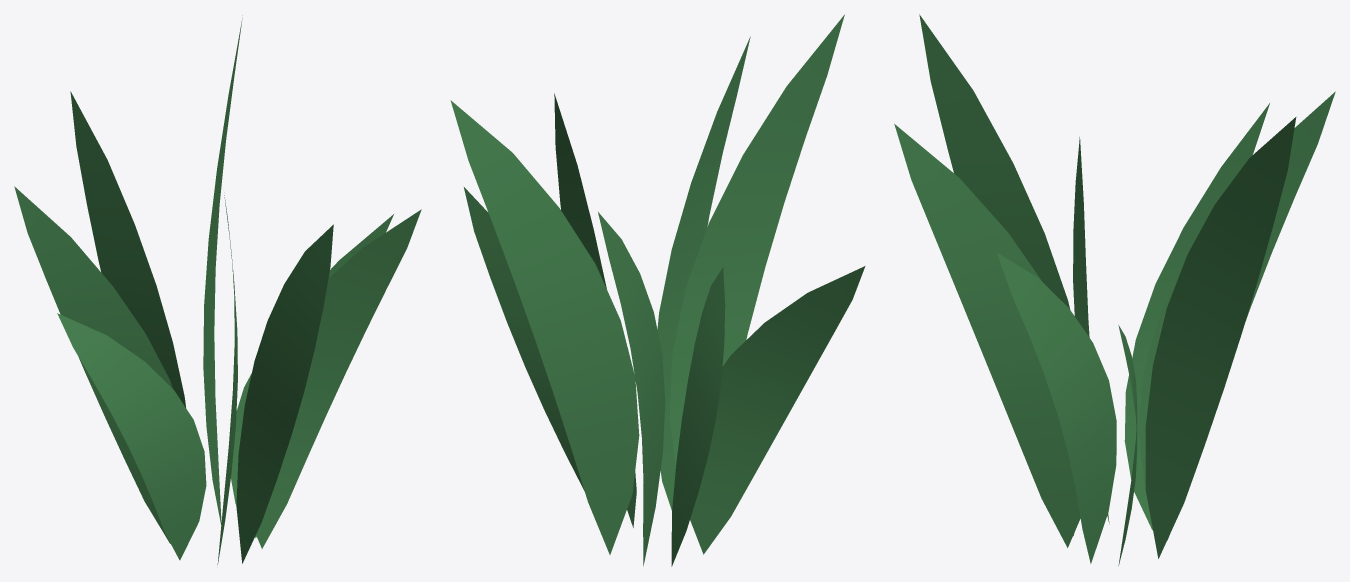
File: seaweed.glb
3 renders of one model, left to right at view 1: azimuth 30°, elevation 25°; view 2: azimuth 150°, elevation 25°; view 3: azimuth 270°, elevation 25°, orthographic. The views are drawn at different scales.
Parts seen in each view (by area): view 1: seaweed; view 2: seaweed; view 3: seaweed.
Part boxes in pixels (x1,y1,x2,y2): seaweed: [14, 15, 421, 564]; seaweed: [450, 14, 865, 566]; seaweed: [894, 14, 1335, 565].
Bounding box in the file's own units: 1.41 × 1.7 × 1.39.
